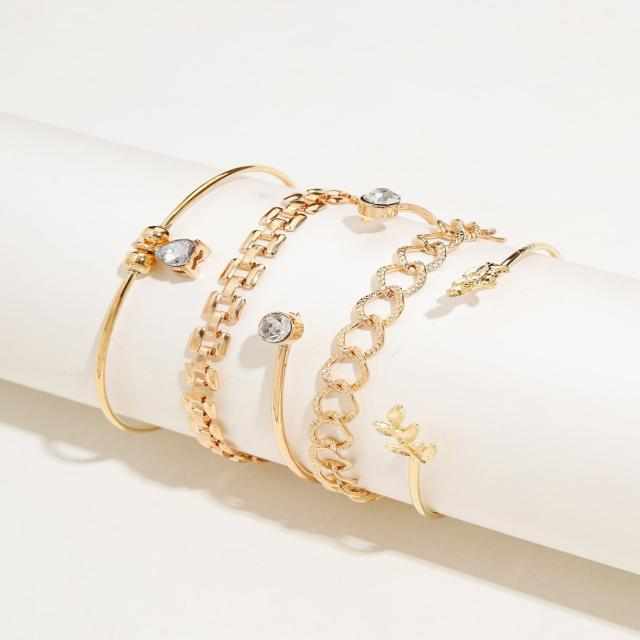bracelet: (17, 102, 626, 596)
